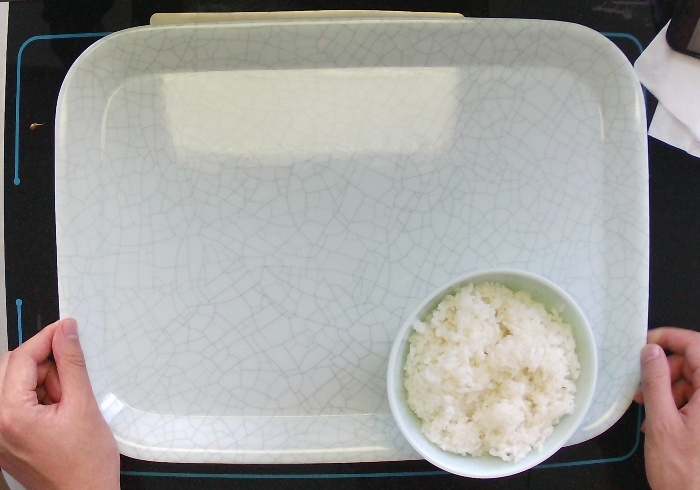JYsf-Fan_Wan: (384, 264, 603, 481)
